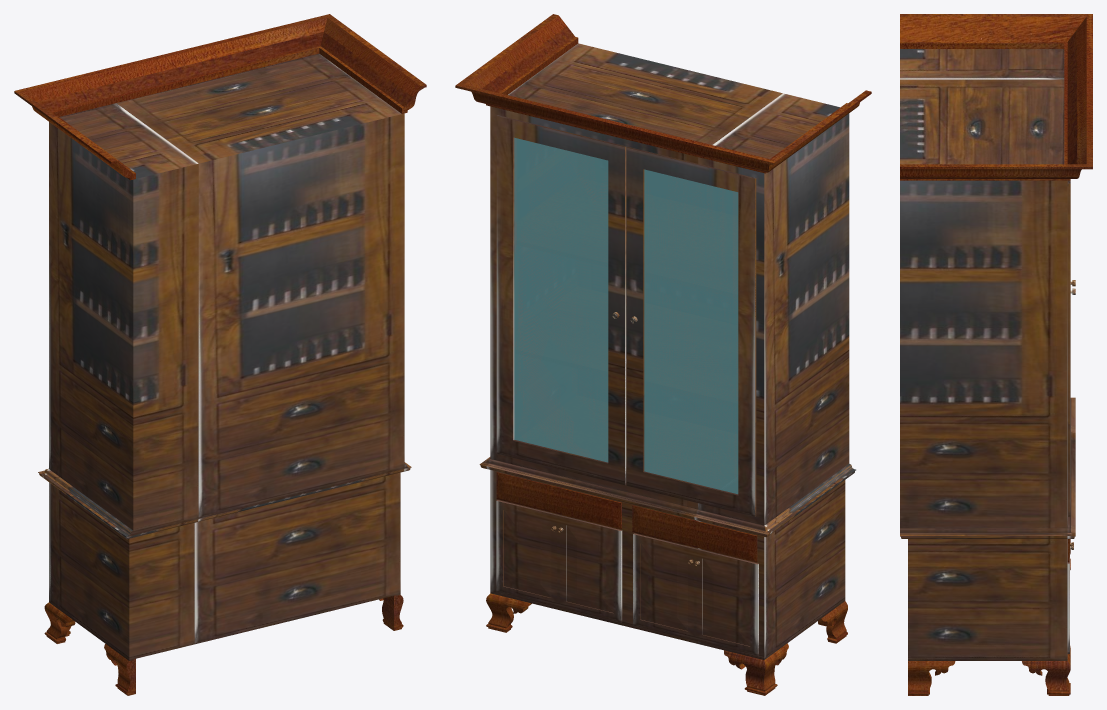
The picture shows the model from 3 angles, left to right: view 1: azimuth 30°, elevation 25°; view 2: azimuth 150°, elevation 25°; view 3: azimuth 270°, elevation 25°; orthographic projection.
Visible parts, largest first — view 1: mesh24_mesh24-geometry, mesh10_mesh10-geometry, mesh33_mesh33-geometry, mesh1_mesh1-geometry, mesh5_mesh5-geometry, mesh3_mesh3-geometry; view 2: mesh24_mesh24-geometry, mesh45_mesh45-geometry, mesh40_mesh40-geometry, mesh10_mesh10-geometry, mesh20_mesh20-geometry, mesh16_mesh16-geometry, mesh33_mesh33-geometry, mesh35_mesh35-geometry, mesh5_mesh5-geometry, mesh1_mesh1-geometry; view 3: mesh24_mesh24-geometry, mesh10_mesh10-geometry, mesh33_mesh33-geometry, mesh45_mesh45-geometry, mesh5_mesh5-geometry, mesh3_mesh3-geometry.
Boxes of the visible parts, <box> form: mesh24_mesh24-geometry: <box>42,53,408,535</box>; mesh10_mesh10-geometry: <box>38,462,411,660</box>; mesh33_mesh33-geometry: <box>14,14,426,180</box>; mesh1_mesh1-geometry: <box>104,644,135,695</box>; mesh5_mesh5-geometry: <box>44,602,75,643</box>; mesh3_mesh3-geometry: <box>379,595,403,630</box>; mesh24_mesh24-geometry: <box>484,43,853,532</box>; mesh45_mesh45-geometry: <box>496,115,626,485</box>; mesh40_mesh40-geometry: <box>626,147,756,516</box>; mesh10_mesh10-geometry: <box>479,457,855,659</box>; mesh20_mesh20-geometry: <box>558,515,758,655</box>; mesh16_mesh16-geometry: <box>496,500,695,640</box>; mesh33_mesh33-geometry: <box>455,14,871,173</box>; mesh35_mesh35-geometry: <box>496,472,757,562</box>; mesh5_mesh5-geometry: <box>486,593,788,695</box>; mesh1_mesh1-geometry: <box>818,601,847,643</box>; mesh24_mesh24-geometry: <box>900,49,1072,534</box>; mesh10_mesh10-geometry: <box>900,397,1075,660</box>; mesh33_mesh33-geometry: <box>900,14,1092,180</box>; mesh45_mesh45-geometry: <box>1067,180,1075,516</box>; mesh5_mesh5-geometry: <box>1022,539,1070,695</box>; mesh3_mesh3-geometry: <box>908,661,955,695</box>.
Size of the model in its own units: 0.5015 by 0.8229 by 0.2669.
